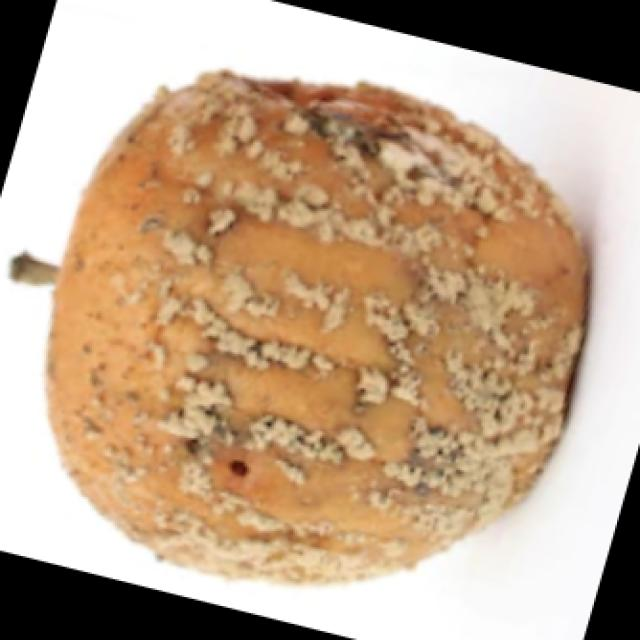Rotten: (17, 64, 594, 597)
